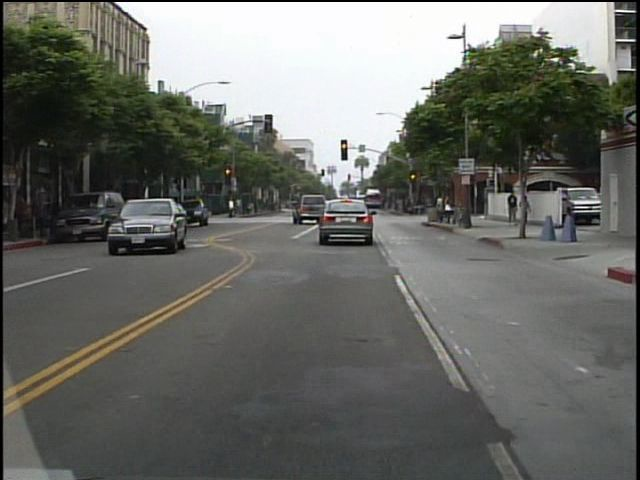person: (432, 189, 451, 225), (506, 186, 521, 227), (524, 189, 533, 226), (228, 193, 238, 219)
